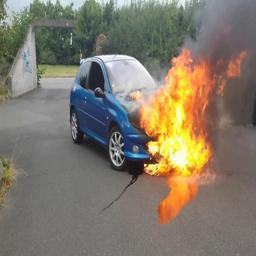fire: (135, 49, 247, 174)
